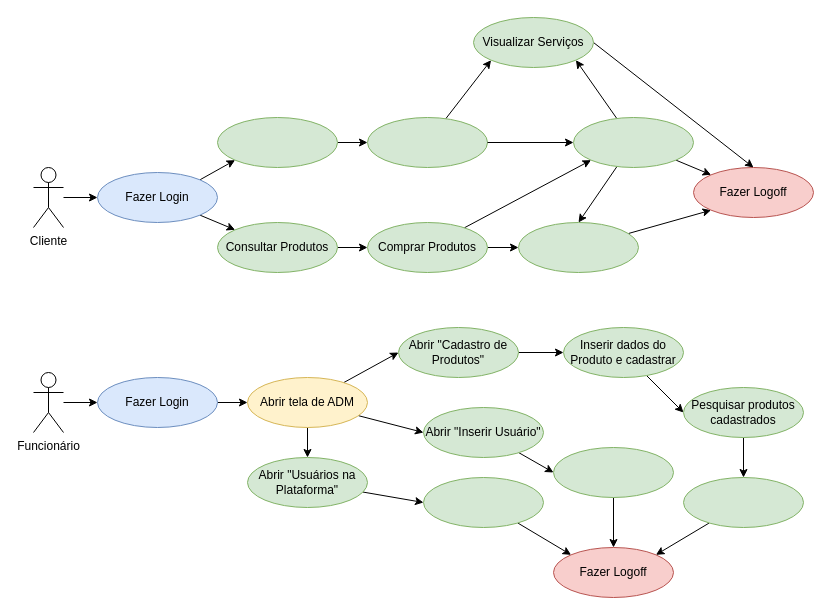
This 831x615 diagram has some shape labels left out. The shapes that lost their labels are listed below. From the top down, each one's centre as x and y in pixels, then its label:
the point at 277,142: Consultar Serviços
the point at 427,142: Agendar Serviço
the point at 633,142: Realizar pagamento
the point at 578,247: Visualizar pedidos
the point at 613,472: Inserir dados do Usuário e cadastrar
the point at 483,502: Pesquisar Usuário
the point at 743,502: Excluir produtos
